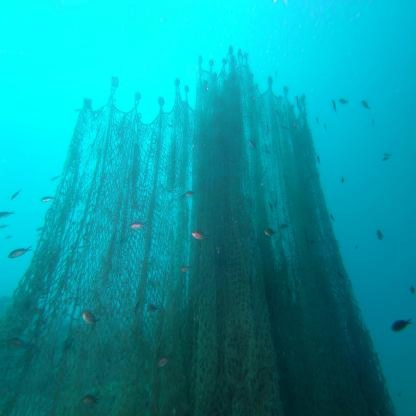net: (11, 100, 389, 416)
